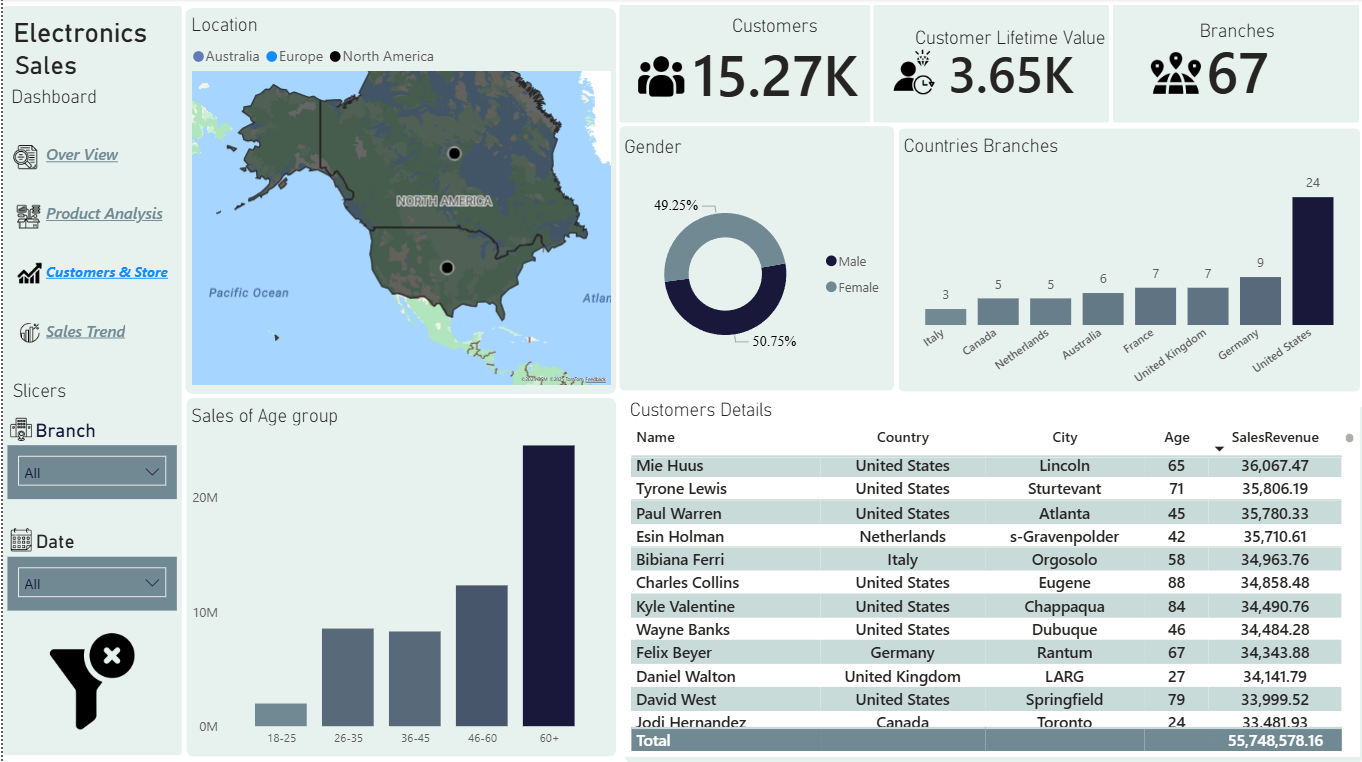

The dashboard page shown, as its layout file describes it:
{"tool":"powerbi","page":{"name":"Customers & Store ","canvas":[1280,720],"ordinal":2},"visuals":[{"type":"shape","box":[584.8,382.3,694.9,337.6],"z":0},{"type":"shape","box":[1044.4,6.7,232.2,111.1],"z":1000},{"type":"shape","box":[818.9,6.7,222.2,111.1],"z":2000},{"type":"shape","box":[172.2,375.6,404.4,337.8],"z":3000},{"type":"shape","box":[171.1,8.9,405.6,363.3],"z":4000},{"type":"shape","box":[0,7.3,168.3,705.3],"z":5000},{"type":"slicer","fields":{"Values":["Stores.State"]},"box":[4.4,420.3,159,51.1],"z":6000},{"type":"card","fields":{"Values":["Title.Branch"]},"box":[20.4,393.7,75.6,26.7],"z":7000},{"type":"image","box":[0.4,389.2,34,32],"z":8000},{"type":"slicer","fields":{"Values":["Sales.Order Date.Variation.Date Hierarchy.Year","Sales.Order Date.Variation.Date Hierarchy.Month"]},"box":[4.4,525.5,159,51],"z":9000},{"type":"image","box":[0.4,493.5,34,32],"z":10000},{"type":"card","fields":{"Values":["Title.Date"]},"box":[23.4,493.5,50,36],"z":11000},{"type":"card","fields":{"Values":["Title.Dashboard"]},"box":[0,58.9,95.6,65.6],"z":12000},{"type":"card","fields":{"Values":["Title.Electronics"]},"box":[0,8.9,144.4,43.3],"z":13000},{"type":"card","fields":{"Values":["Title.Sales"]},"box":[0,41.1,80,41.1],"z":14000},{"type":"card","fields":{"Values":["Title.Slicers"]},"box":[0,348.7,67.8,40],"z":15000},{"type":"image","box":[33.3,592.2,102.2,101.1],"z":16000},{"type":"pageNavigator","box":[40.4,124.7,124.7,211.2],"z":17000},{"type":"image","box":[4.3,133.3,33,33],"z":18000},{"type":"image","box":[7.8,188.9,33,33],"z":19000},{"type":"image","box":[7.9,242,33,33],"z":20000},{"type":"image","box":[7.9,297.6,33,33],"z":21000},{"type":"shape","box":[580,121,258.9,248.9],"z":22000},{"type":"azureMap","title":"Location","fields":{"Category":["Customers.Country"],"Series":["Customers.Continent"]},"box":[172.2,13.3,404.4,355.6],"z":23000},{"type":"donutChart","title":"Gender","fields":{"Category":["Customers.Gender"],"Y":["CountNonNull(Customers.CustomerKey)"]},"box":[580,128.9,258.9,240],"z":24000},{"type":"shape","box":[580,6.7,236.7,111.1],"z":25000},{"type":"card","title":"Customers","fields":{"Values":["CountNonNull(Customers.CustomerKey)"]},"box":[636.2,14.6,180.8,87.7],"z":26000},{"type":"shape","box":[842.2,122.1,434.4,247.8],"z":27000},{"type":"lineStackedColumnComboChart","title":"Countries Branches","fields":{"Category":["Customers.Country"],"Y":["CountNonNull(Stores.State)"]},"box":[842.2,127.8,434.4,244.4],"z":28000},{"type":"columnChart","title":"Sales of Age group","fields":{"Category":["Customers.Age Group"],"Y":["measure.SalesRevenue"]},"box":[172.4,381.2,396.8,332.4],"z":29000},{"type":"card","title":"Customer Lifetime Value","fields":{"Values":["measure.CLV"]},"box":[850.8,26.2,193.8,71.5],"z":30000},{"type":"card","title":"Branches","fields":{"Values":["measure.Branchs"]},"box":[1103.2,20,115.8,78.9],"z":31000},{"type":"tableEx","title":"Customers Details","fields":{"Values":["Customers.Name","Customers.Country","Customers.City","Customers.Age","measure.SalesRevenue"]},"box":[584.8,376,691.8,337.6],"z":32000},{"type":"image","box":[592.3,45.4,53.8,56.9],"z":33000},{"type":"image","box":[830,41.1,53.7,56.8],"z":34000},{"type":"image","box":[1069.5,41.1,67.4,57.9],"z":35000}]}

Visuals, with their boxes in screenshot pixels (x1, y1, x2, y2), scaled from the page's 1280x720 canvas onto the 1362x762 screenshot:
shape: 622:405:1361:761
shape: 1111:7:1358:125
shape: 871:7:1108:125
shape: 183:398:614:755
shape: 182:9:614:394
shape: 0:8:179:754
slicer - Stores.State: 5:445:174:499
card - Title.Branch: 22:417:102:445
image: 0:412:37:446
slicer - Sales.Order Date.Variation.Date Hierarchy.Year x Sales.Order Date.Variation.Date Hierarchy.Month: 5:556:174:610
image: 0:522:37:556
card - Title.Date: 25:522:78:560
card - Title.Dashboard: 0:62:102:132
card - Title.Electronics: 0:9:154:55
card - Title.Sales: 0:43:85:87
card - Title.Slicers: 0:369:72:411
image: 35:627:144:734
pageNavigator: 43:132:176:355
image: 5:141:40:176
image: 8:200:43:235
image: 8:256:44:291
image: 8:315:44:350
shape: 617:128:893:391
"Location" azureMap: 183:14:614:390
"Gender" donutChart: 617:136:893:390
shape: 617:7:869:125
"Customers" card: 677:15:869:108
shape: 896:129:1358:391
"Countries Branches" lineStackedColumnComboChart: 896:135:1358:394
"Sales of Age group" columnChart: 183:403:606:755
"Customer Lifetime Value" card: 905:28:1112:103
"Branches" card: 1174:21:1297:105
"Customers Details" tableEx: 622:398:1358:755
image: 630:48:687:108
image: 883:43:940:104
image: 1138:43:1210:105
